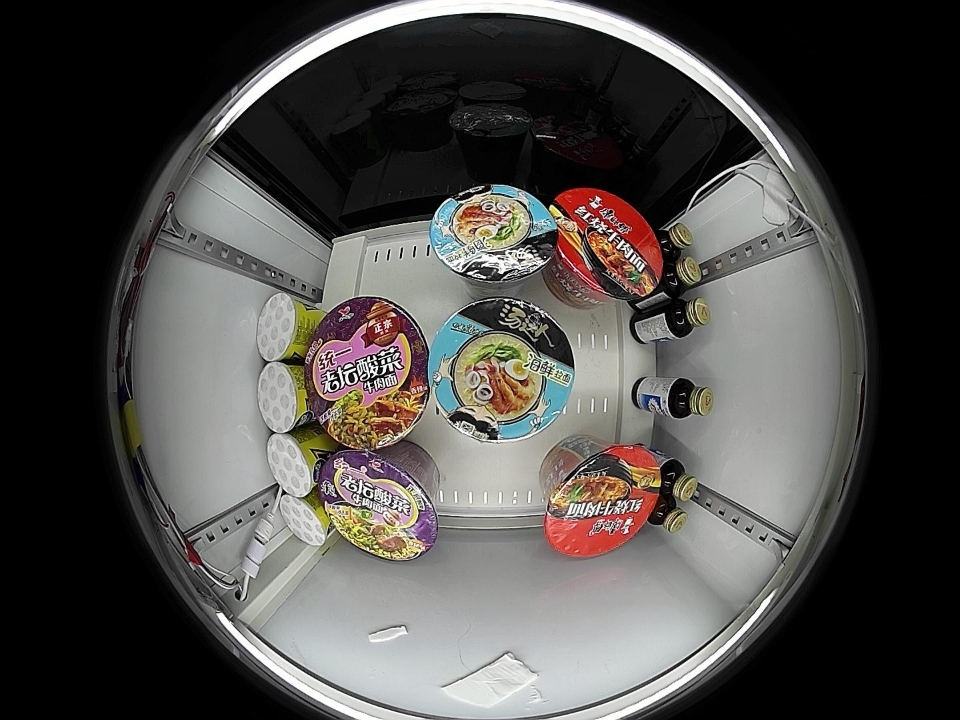hongshaoniurou: (550, 188, 664, 302), (545, 446, 661, 557)
kebike: (256, 292, 315, 363), (257, 362, 313, 433), (266, 430, 323, 497), (279, 491, 333, 547)
laotansuancai: (308, 297, 431, 450), (320, 449, 439, 562)
libaojian: (664, 377, 714, 420), (659, 252, 703, 299), (655, 458, 699, 504), (663, 297, 711, 339), (649, 494, 691, 534), (657, 222, 695, 259)
tangdaren3: (430, 296, 575, 443), (430, 184, 558, 290)
